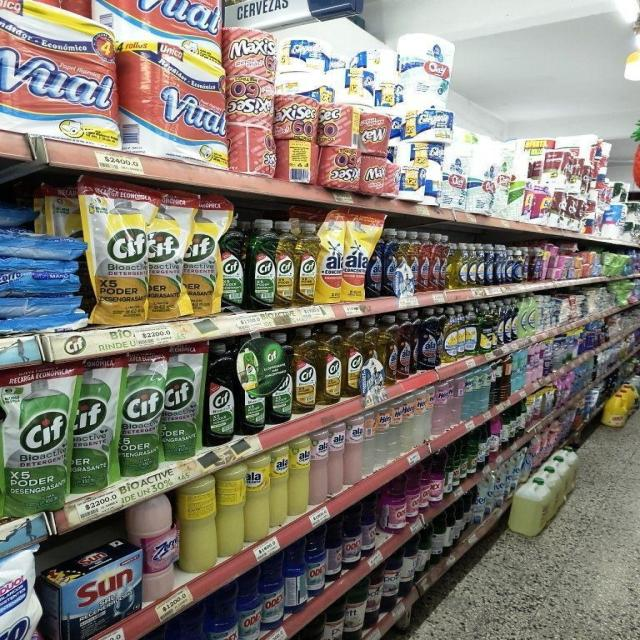ala_conc_amarillo: (397, 230, 410, 296), (408, 230, 418, 295)
ala_conc_azul: (415, 308, 438, 371), (382, 228, 398, 298), (367, 224, 382, 298)
ala_conc_rojo: (397, 312, 413, 379), (418, 231, 430, 293), (430, 233, 442, 292), (440, 234, 450, 291)
ala_crem_amarillo: (246, 451, 270, 541), (271, 444, 288, 525)
ala_crem_rosado: (310, 426, 328, 504), (345, 412, 363, 486), (328, 420, 344, 494)
ala_sachet_amarillo: (342, 210, 367, 302), (318, 210, 342, 304)
cif_conc_bot_amarilla: (293, 327, 317, 412), (318, 324, 342, 404), (296, 220, 316, 306), (276, 220, 295, 308), (343, 320, 362, 398)
cif_conc_botella_verde: (205, 343, 236, 445), (219, 215, 246, 312), (247, 218, 275, 310)
cif_conc_sachet_amarillo: (89, 178, 146, 324), (148, 188, 184, 320), (184, 192, 218, 317)
cif_conc_sachet_verde: (3, 366, 69, 516), (71, 361, 117, 491), (120, 352, 161, 476), (163, 345, 202, 460)
heroe: (413, 385, 432, 444), (433, 378, 448, 436)
magistral_con_amarillo: (626, 5, 640, 80), (455, 242, 468, 289), (469, 243, 479, 288)
magistral_con_azul: (495, 244, 506, 285)
